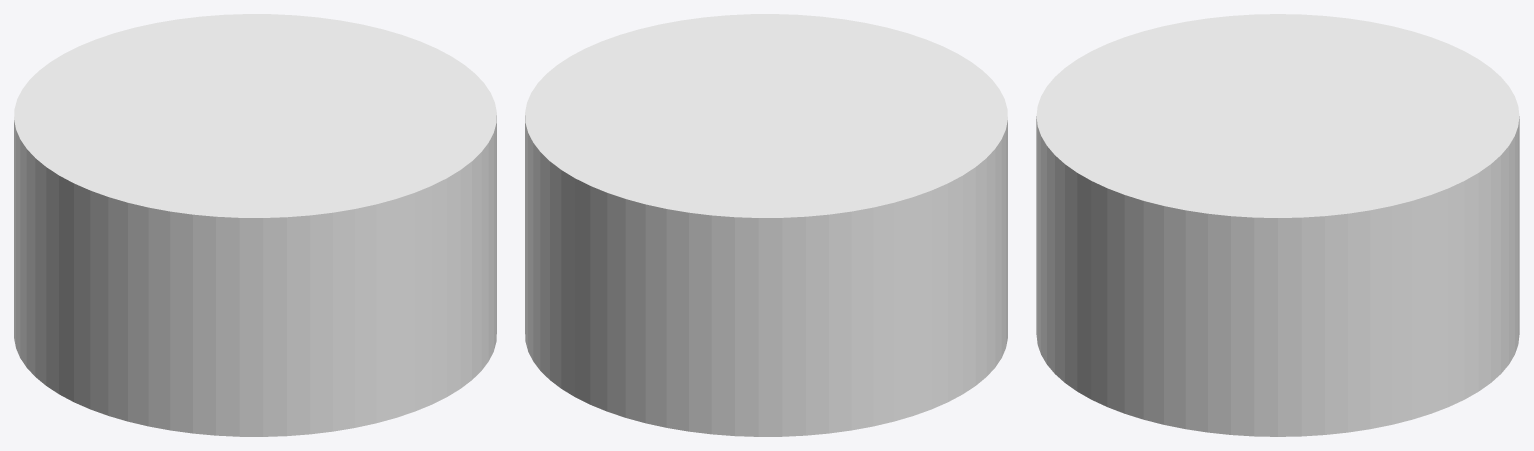
Rendered from WHITE_OFF.glb.
3 renders of one model, left to right at view 1: azimuth 30°, elevation 25°; view 2: azimuth 150°, elevation 25°; view 3: azimuth 270°, elevation 25°, orthographic.
Parts seen in each view (by area): view 1: INNER_TOP; view 2: INNER_TOP; view 3: INNER_TOP.
Part boxes in pixels (box(x1,y1,x2,y2)): INNER_TOP: box(14, 14, 496, 436); INNER_TOP: box(525, 14, 1007, 436); INNER_TOP: box(1036, 14, 1519, 436).
Bounding box in the file's own units: 0.1 × 0.05 × 0.1.
1 material, 1 textured.
